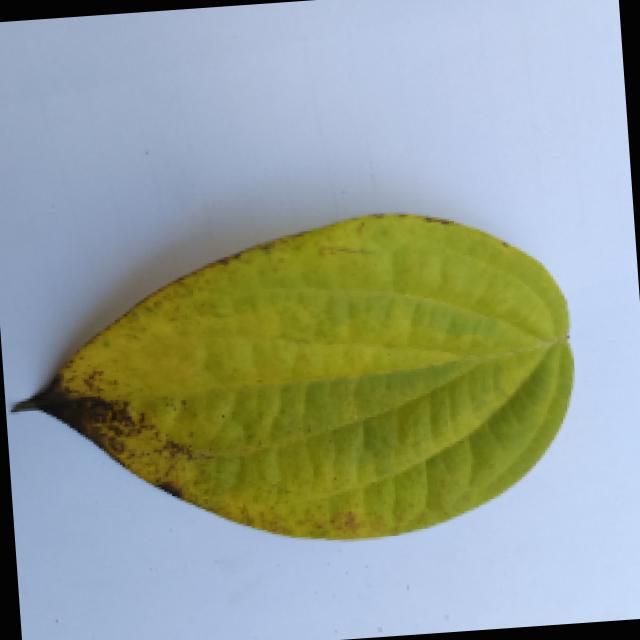slow-decline: (0, 199, 593, 576)
